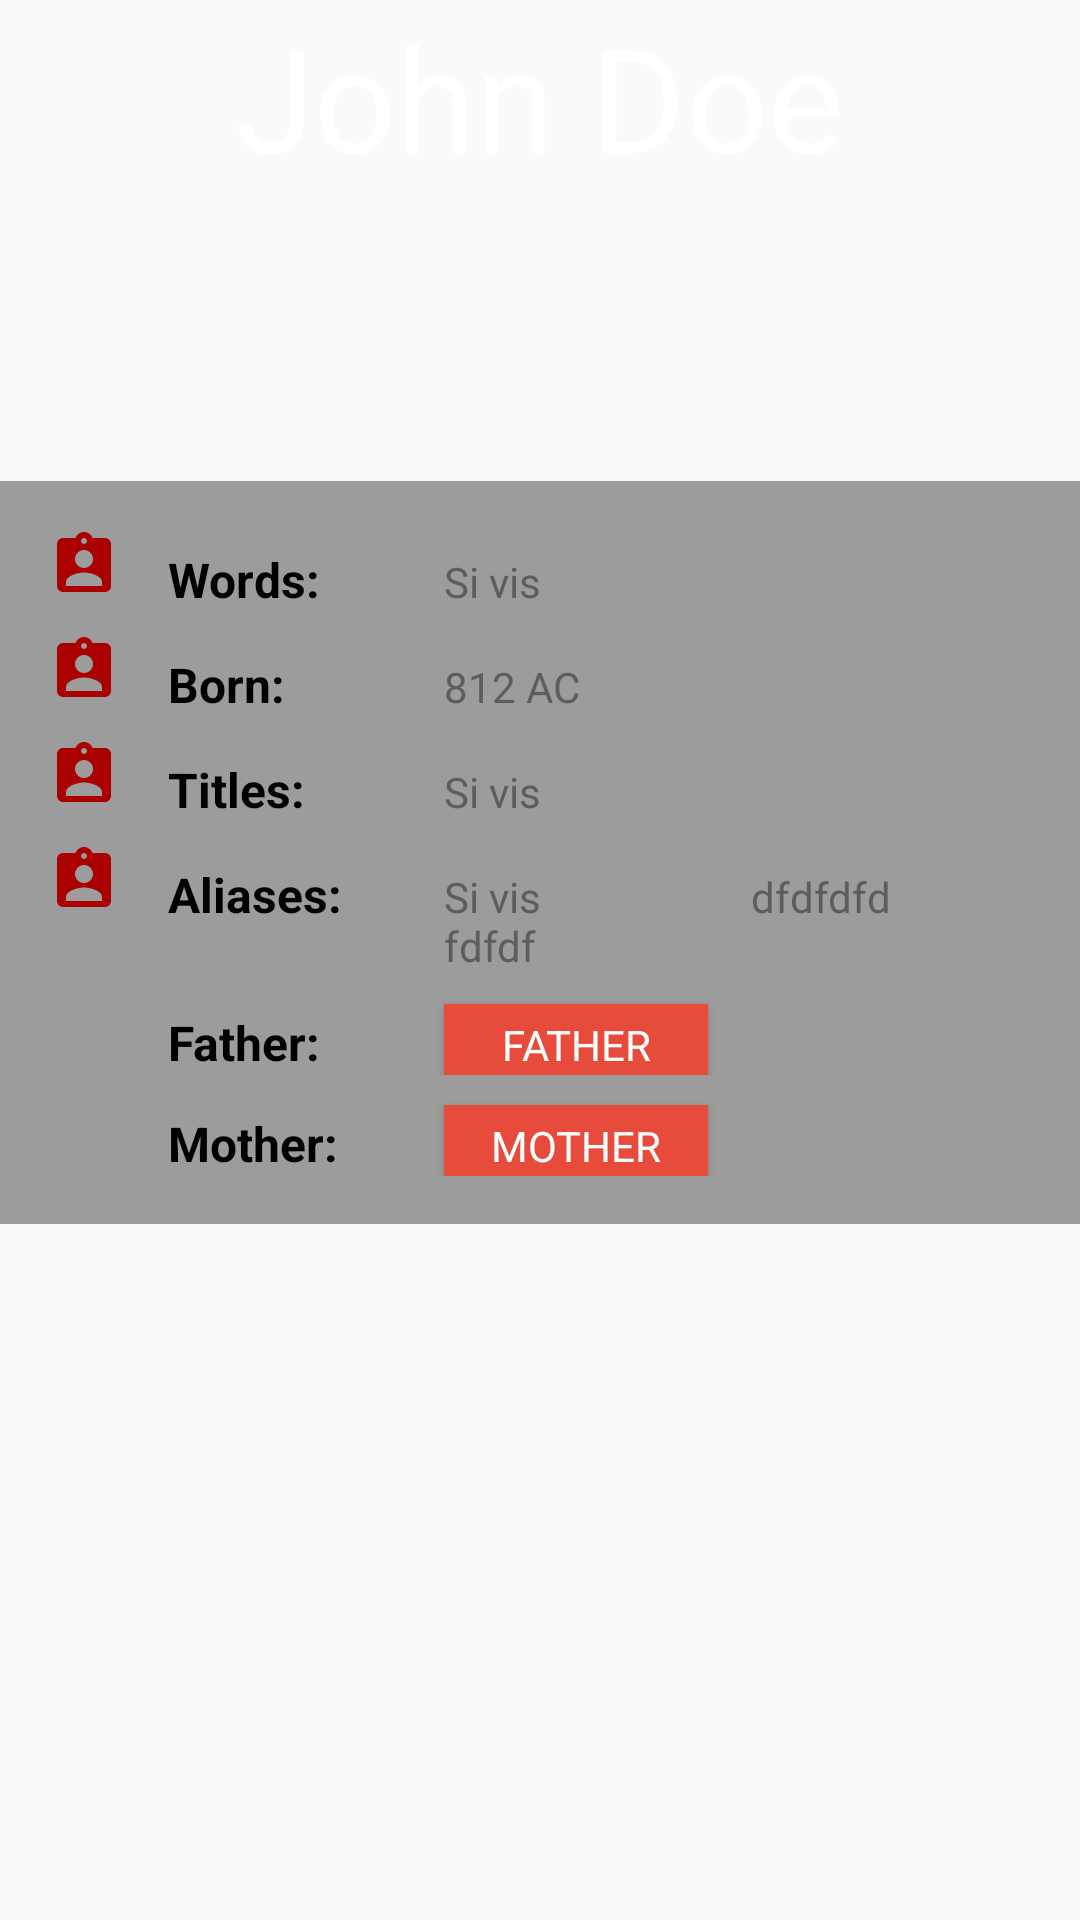

Icons on this 1080px×1920px Android screen, each with its box as (x1, y1, x2, y2):
profile: (57, 532, 111, 592), (57, 637, 111, 697), (57, 742, 111, 802), (57, 847, 111, 907)
